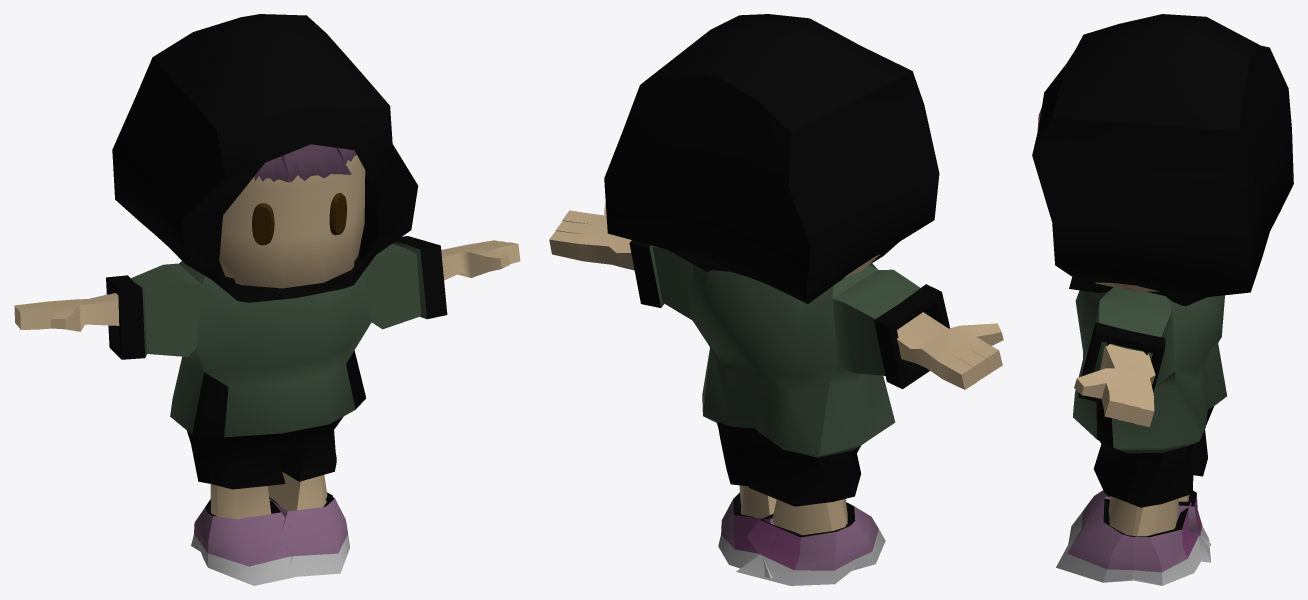
The model's file is main_char.fbx.
The picture shows the model from 3 angles, left to right: view 1: azimuth 30°, elevation 25°; view 2: azimuth 150°, elevation 25°; view 3: azimuth 270°, elevation 25°; orthographic projection. The views are drawn at different scales.
Parts seen in each view (by area): view 1: hoodie, sweater, body, shoes1, short, pCube3, bevelPolygon1; view 2: hoodie, sweater, body, shoes1, short; view 3: hoodie, sweater, shoes1, body, short.
Boxes of the visible parts, x1,y1,x2,y2 form: hoodie: (112,14,418,302); sweater: (106,236,447,437); body: (14,155,520,519); shoes1: (191,492,349,585); short: (187,416,343,489); pCube3: (281,144,351,182); bevelPolygon1: (252,203,274,245); hoodie: (604,14,939,304); sweater: (629,240,949,457); body: (549,203,1003,535); shoes1: (718,492,885,585); short: (717,422,861,506); hoodie: (1032,14,1293,306); sweater: (1073,287,1226,453); shoes1: (1056,490,1211,585); body: (1074,282,1189,536); short: (1093,406,1213,507).
Bounding box in the file's own units: 6.41 × 6.9 × 3.08.
